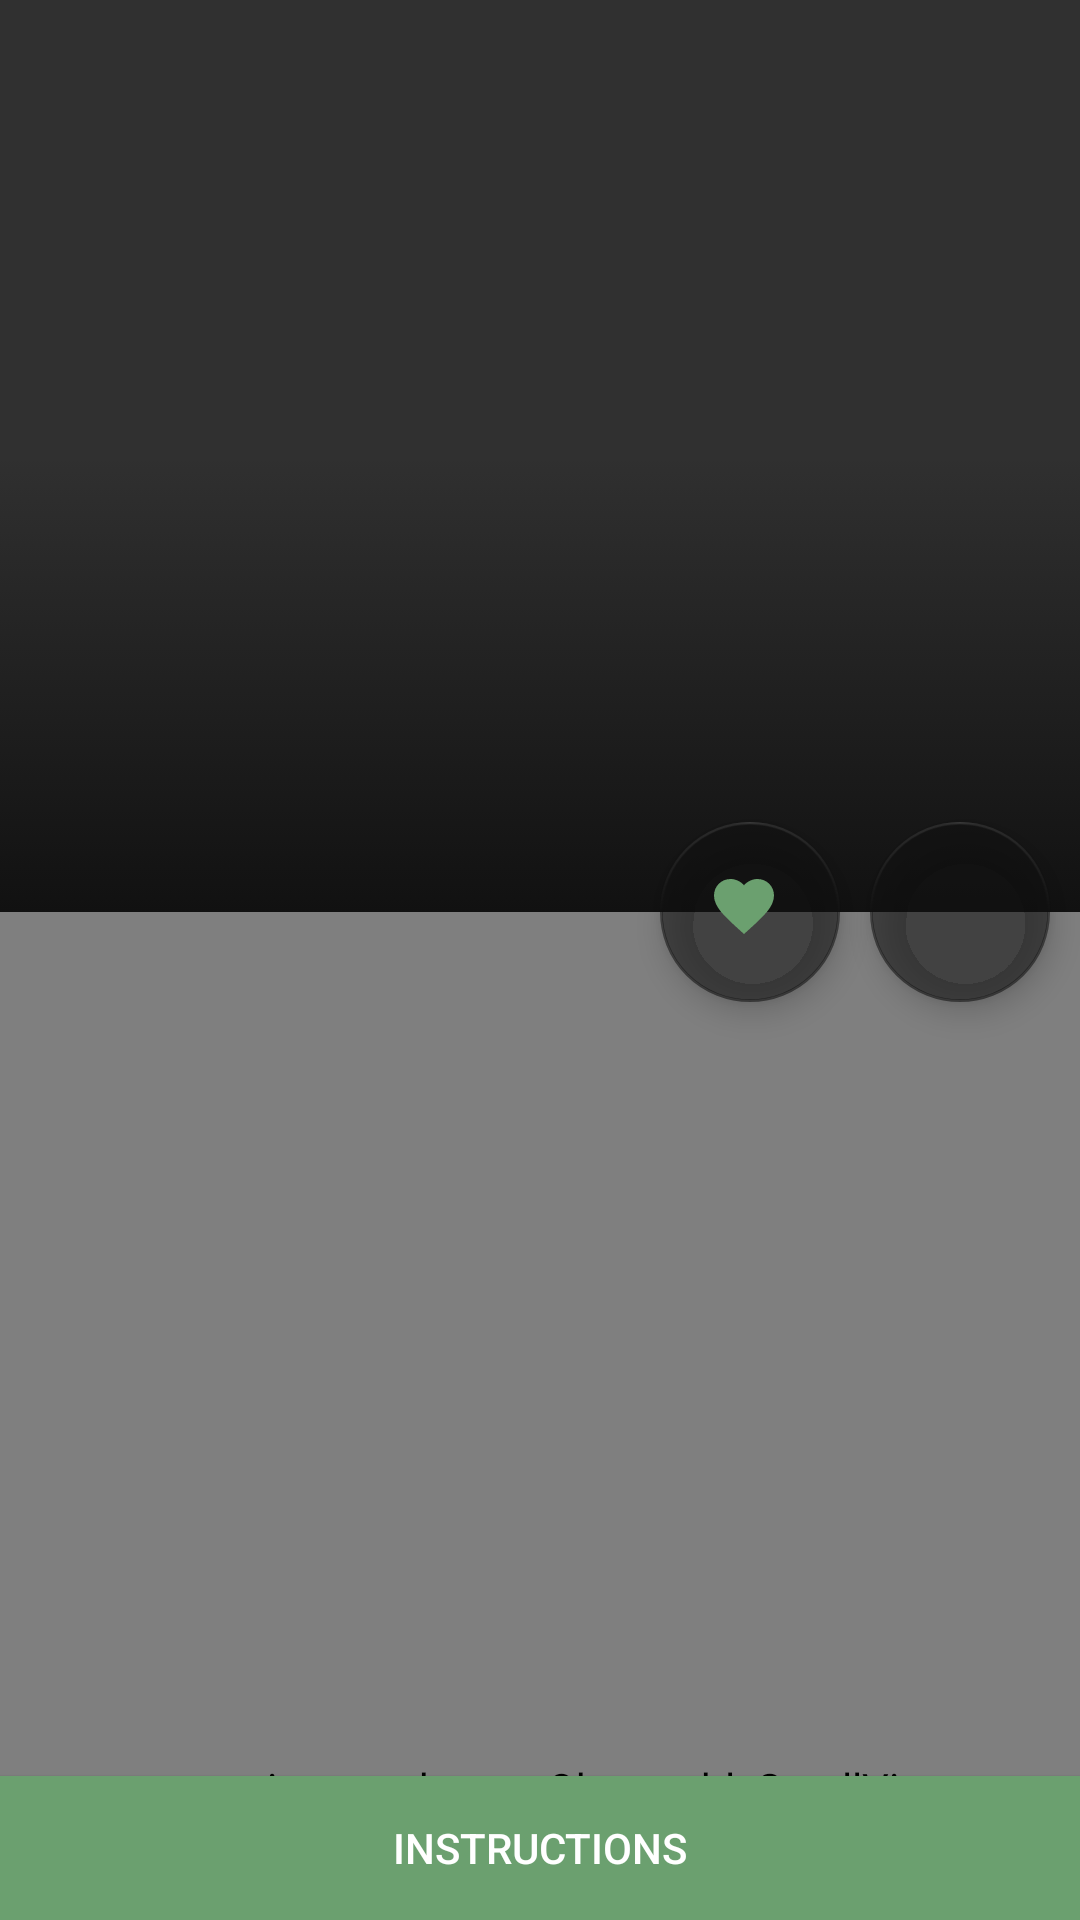

Screen size 1080*1920. Icon name, then its center in pixels as (x,y):
Add as favourite: (750,912)
